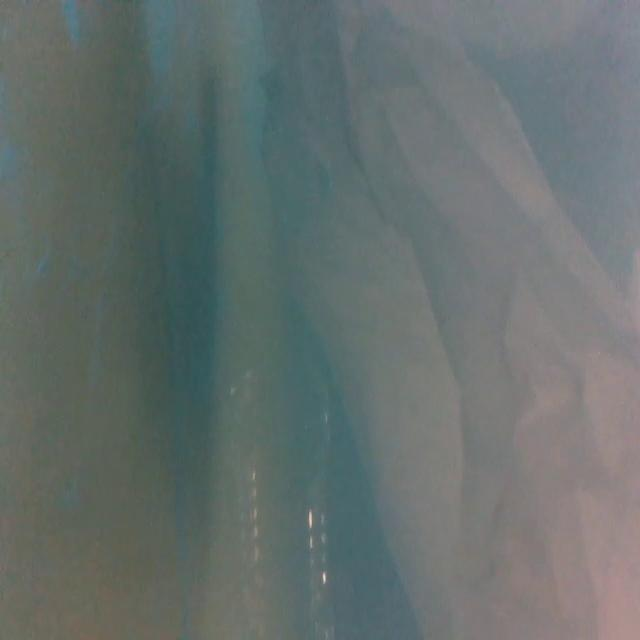plastic bags: (248, 0, 640, 640)
plastic bottle: (218, 354, 334, 640)
